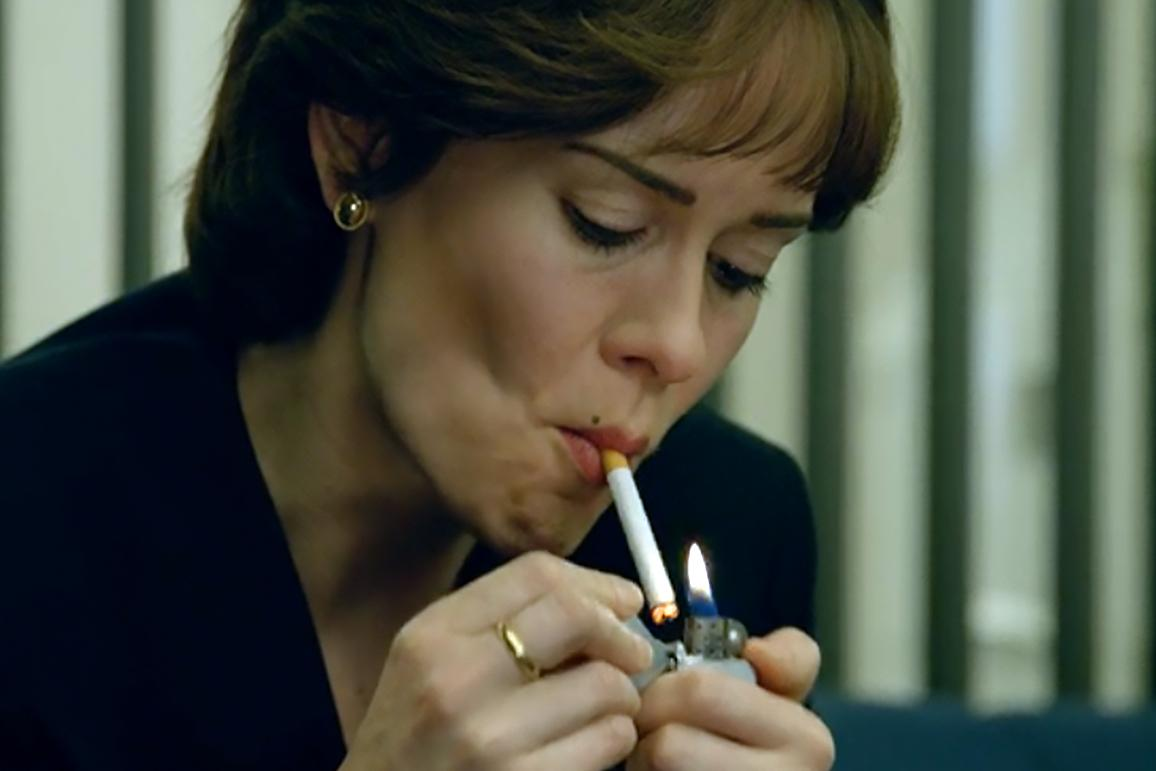smoke: (597, 436, 680, 622)
